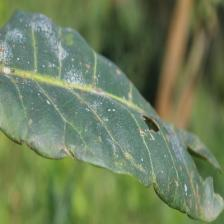red rust: (0, 7, 223, 222)
